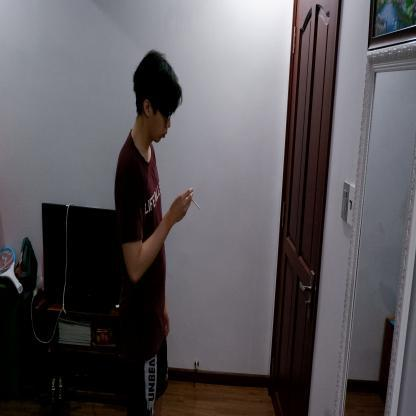cigarette: (190, 198, 202, 212)
person: (110, 47, 192, 415)
